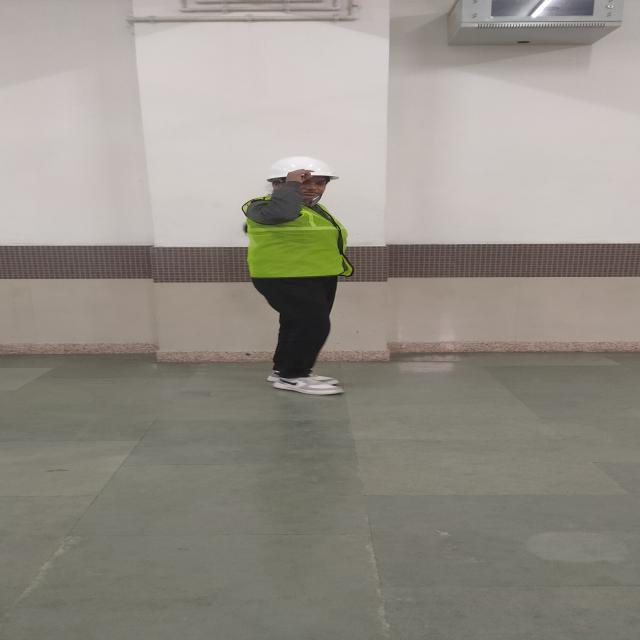safe: (243, 157, 351, 395)
